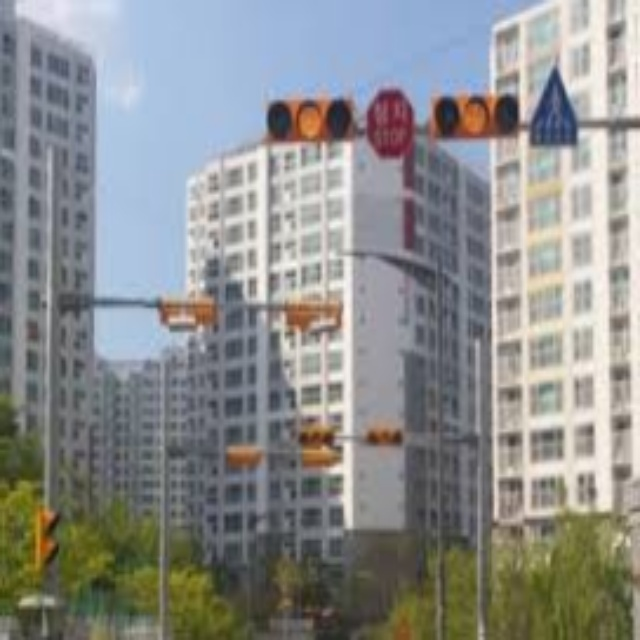yellow_light: (462, 98, 488, 134), (296, 105, 323, 137)
